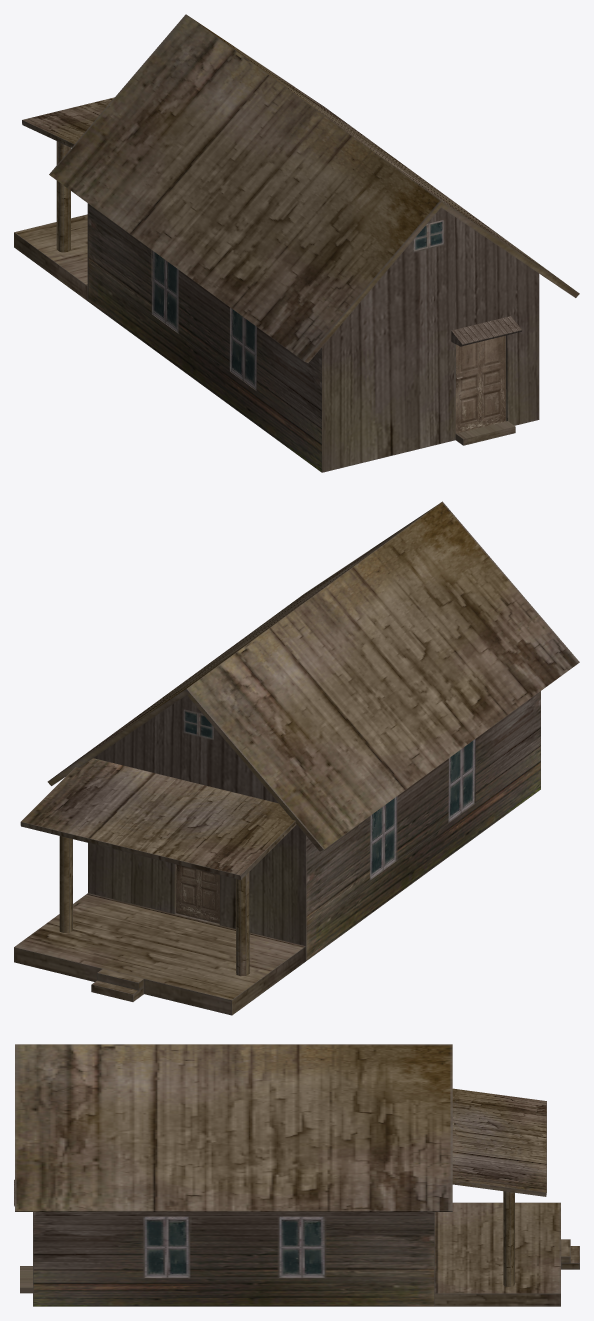
The model's file is barn_with_texture.fbx.
The picture shows the model from 3 angles, top to bottom: view 1: azimuth 30°, elevation 25°; view 2: azimuth 150°, elevation 25°; view 3: azimuth 270°, elevation 25°; orthographic projection. The views are drawn at different scales.
Visible parts, largest first — view 1: Farmhouse_OBJ:polySurface73; view 2: Farmhouse_OBJ:polySurface73; view 3: Farmhouse_OBJ:polySurface73.
Part boxes in pixels (x1,y1,x2,y2): Farmhouse_OBJ:polySurface73: (14,14,579,472); Farmhouse_OBJ:polySurface73: (14,501,579,1015); Farmhouse_OBJ:polySurface73: (14,1044,579,1306).
Size of the model in its own units: 24.28 by 21.28 by 50.36.
Materials: 1 (1 with a texture image).
